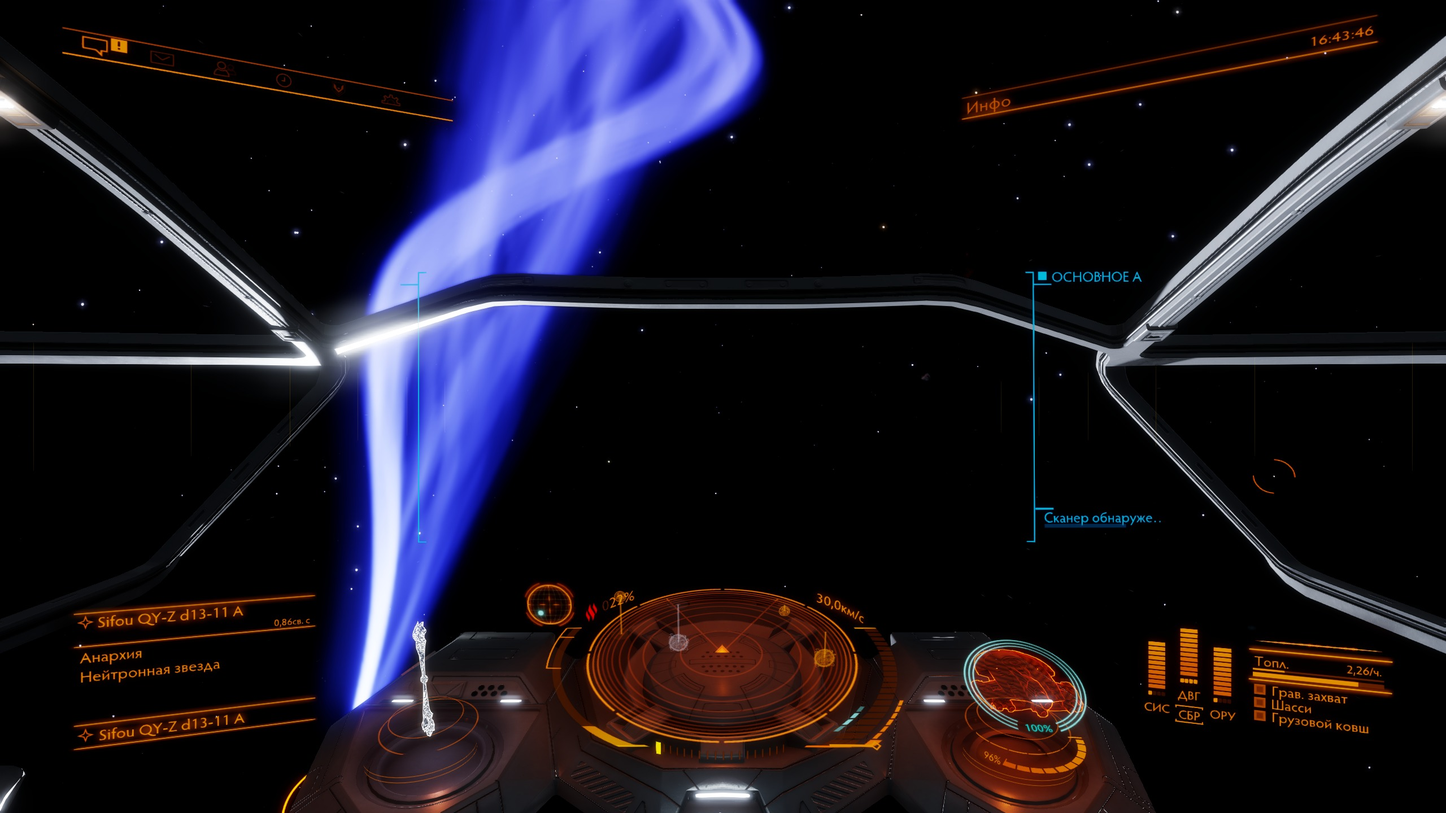jetcone: (336, 0, 761, 347), (334, 300, 638, 711)
